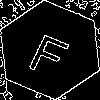F: (25, 25, 76, 79)
